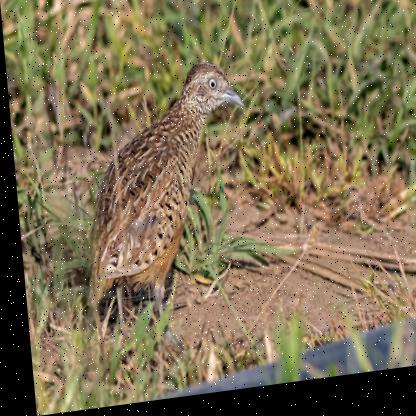Burung: (65, 64, 259, 364)
